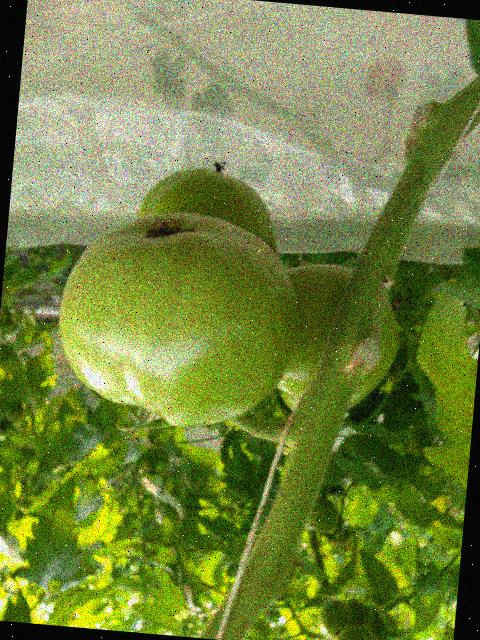b_green: (48, 200, 309, 437), (274, 260, 404, 423), (133, 163, 283, 253), (332, 622, 382, 640)
